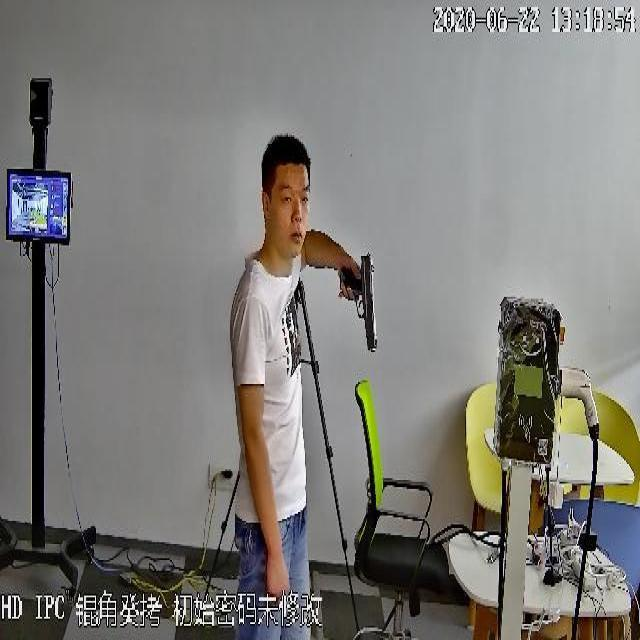pistol: (342, 246, 380, 356)
